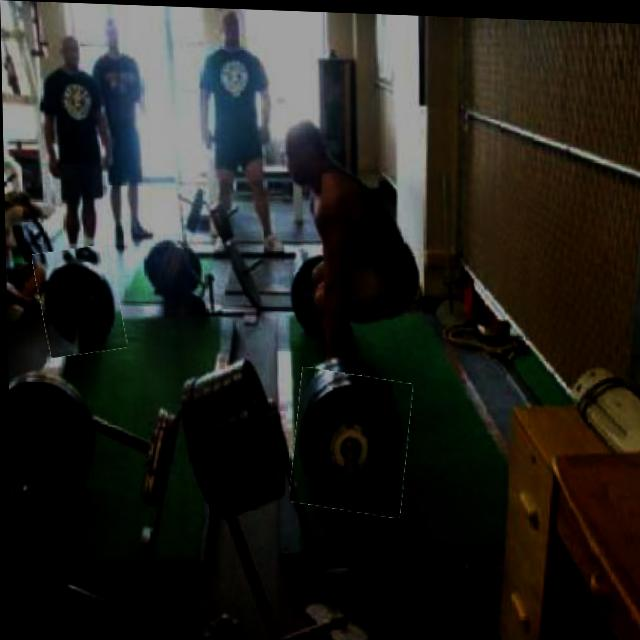barbell: (290, 368, 410, 514), (35, 246, 123, 358)
